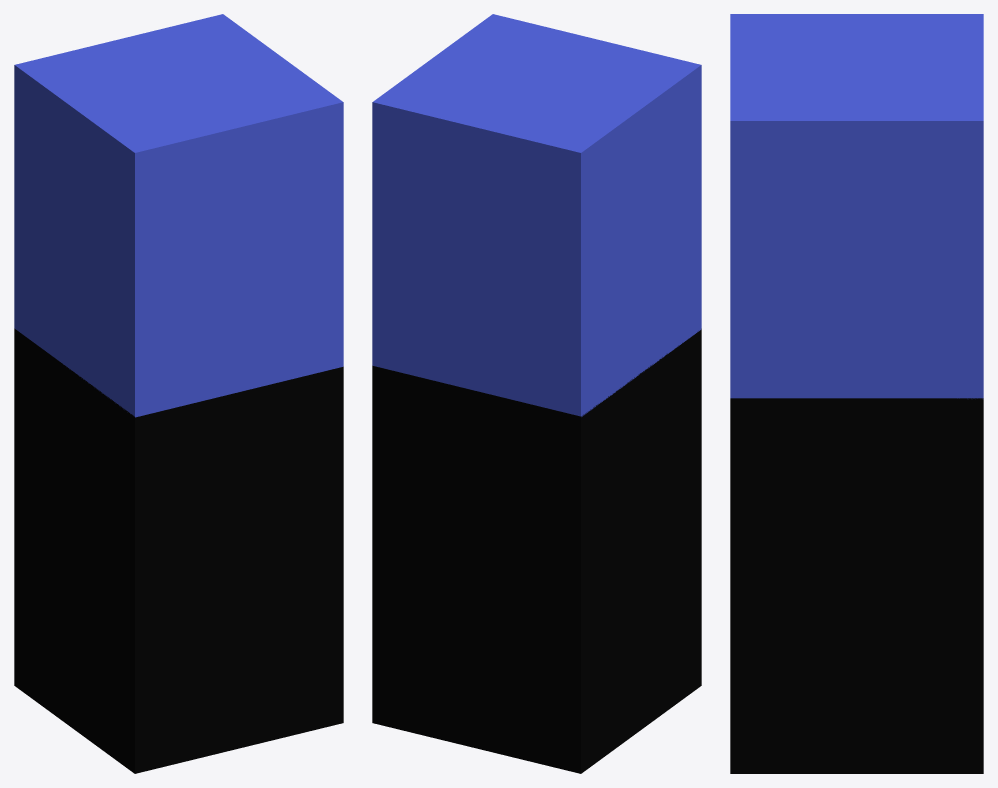
File: Prize.fbx
3 views of the same model, side by side, from view 1: azimuth 30°, elevation 25°; view 2: azimuth 150°, elevation 25°; view 3: azimuth 270°, elevation 25° (orthographic). The views are drawn at different scales.
Visible parts, largest first — view 1: Cube, Cube.001; view 2: Cube, Cube.001; view 3: Cube.001, Cube.
Boxes of the visible parts, left/top/right/bottom form: Cube: left=14, top=328, right=343, bottom=773; Cube.001: left=14, top=14, right=343, bottom=417; Cube: left=372, top=328, right=701, bottom=773; Cube.001: left=372, top=14, right=701, bottom=416; Cube.001: left=730, top=14, right=983, bottom=398; Cube: left=730, top=398, right=983, bottom=773.
Size of the model in its own units: 200 by 569 by 200.
